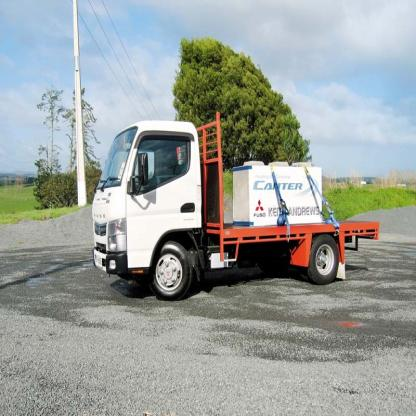truck: (91, 109, 380, 303)
